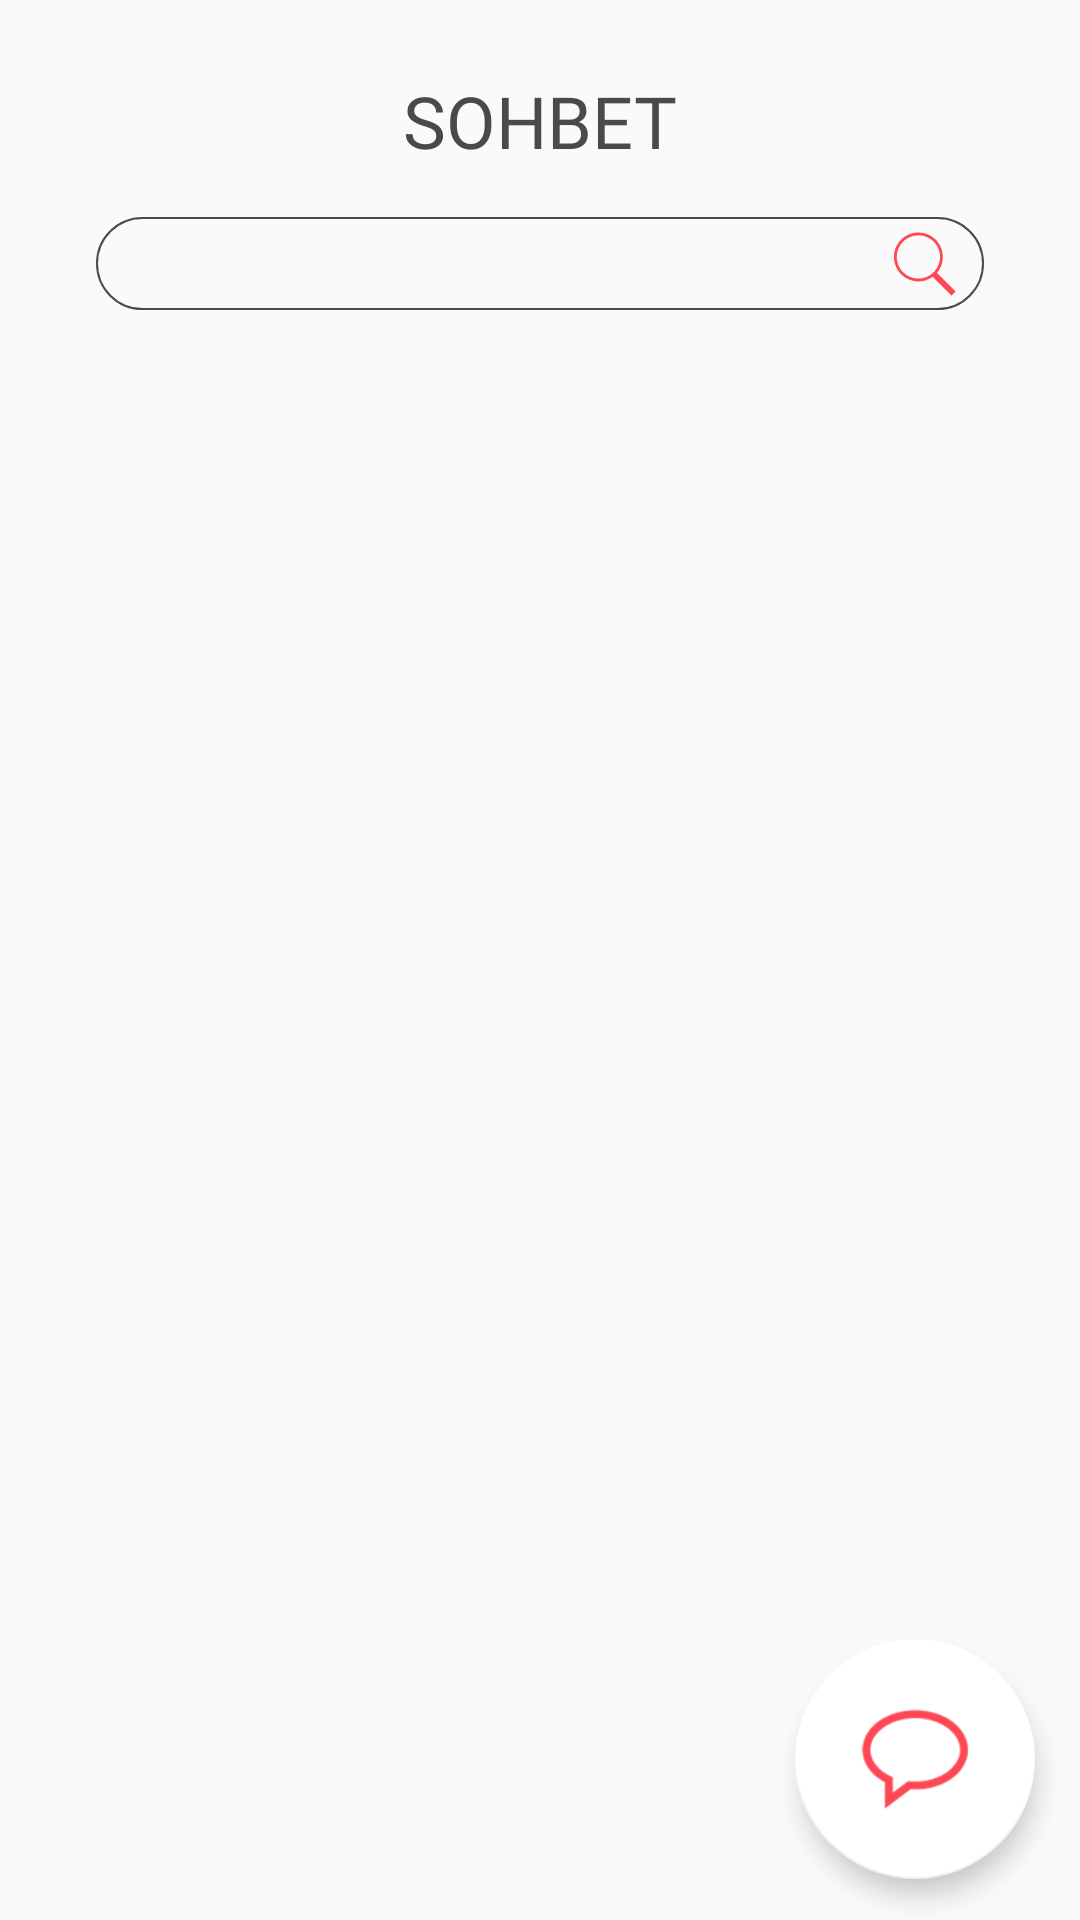

Point at icon controls on the screen. Image size 1080 × 1920, points as point (x, y).
arasvg: point (925, 264)
newchat: point (890, 1766)
